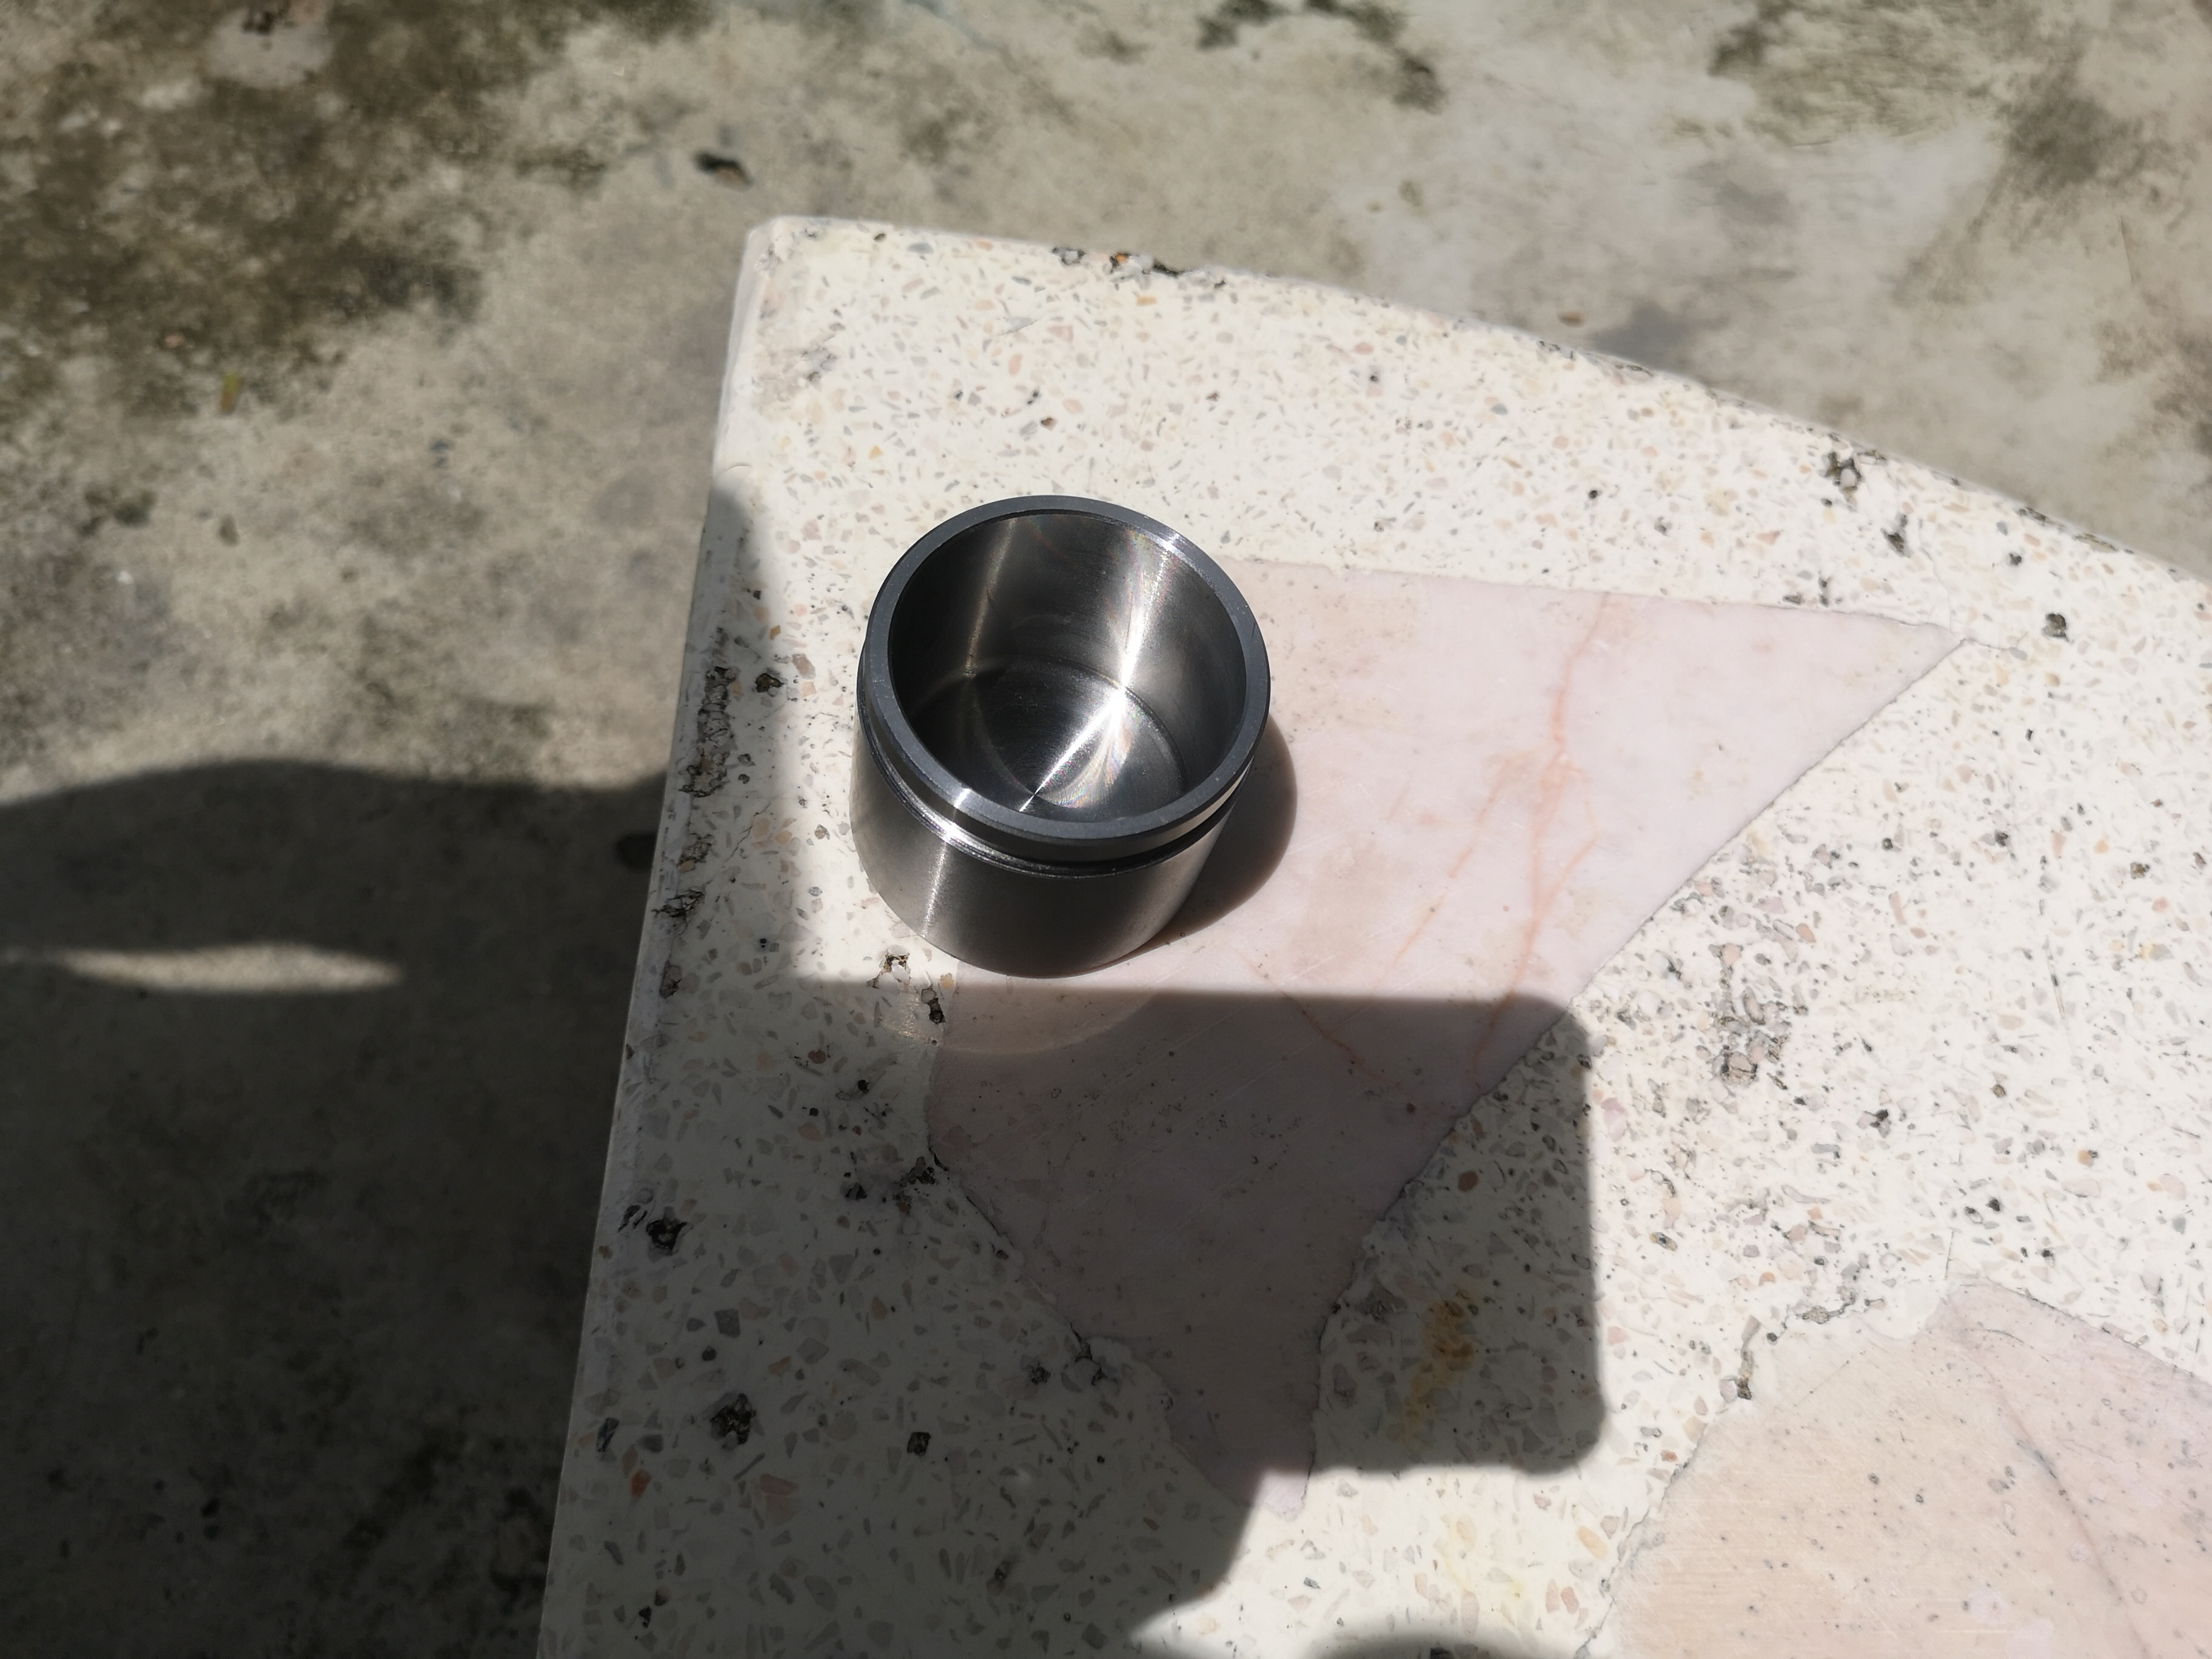ลูกสูบดิสเบรค: (798, 460, 1296, 957)
